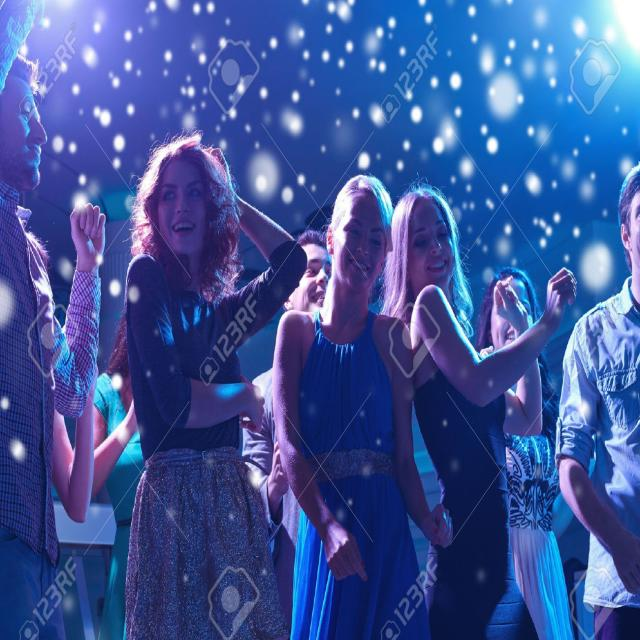body: (121, 123, 306, 639), (374, 181, 578, 639), (271, 172, 454, 639), (0, 0, 110, 639), (552, 161, 639, 639), (239, 226, 333, 640), (474, 270, 570, 640), (90, 313, 146, 640), (46, 368, 97, 527)
